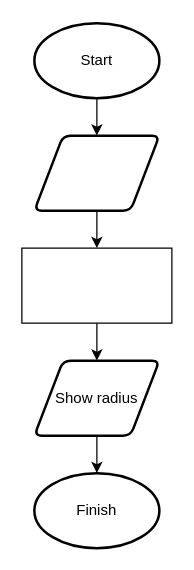
Some shapes in this 194 by 570 pixel diagram are drawn without their labels. Each missing label, with the centre of its shape:
"Circumference = Tau * Radius" goes at point 96,285.
"Get radius" goes at point 96,172.
